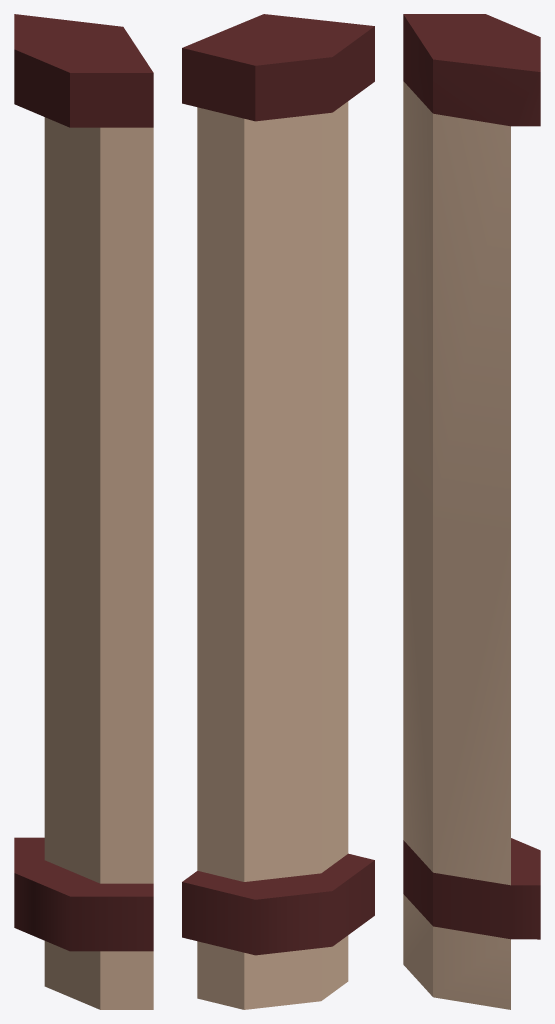
The model's file is ASFTR_Mod_WallCorner.fbx.
The picture shows the model from 3 angles, left to right: view 1: azimuth 90°, elevation 25°; view 2: azimuth 150°, elevation 25°; view 3: azimuth 270°, elevation 25°; orthographic projection. The views are drawn at different scales.
Parts seen in each view (by area): view 1: ASFTR_Mod_WallCorner; view 2: ASFTR_Mod_WallCorner; view 3: ASFTR_Mod_WallCorner.
Part boxes in pixels (box(x1,y1,x2,y2)): ASFTR_Mod_WallCorner: box(14, 14, 153, 1009); ASFTR_Mod_WallCorner: box(182, 14, 374, 1009); ASFTR_Mod_WallCorner: box(403, 14, 540, 1009).
Bounding box in the file's own units: 23 × 173 × 23.
